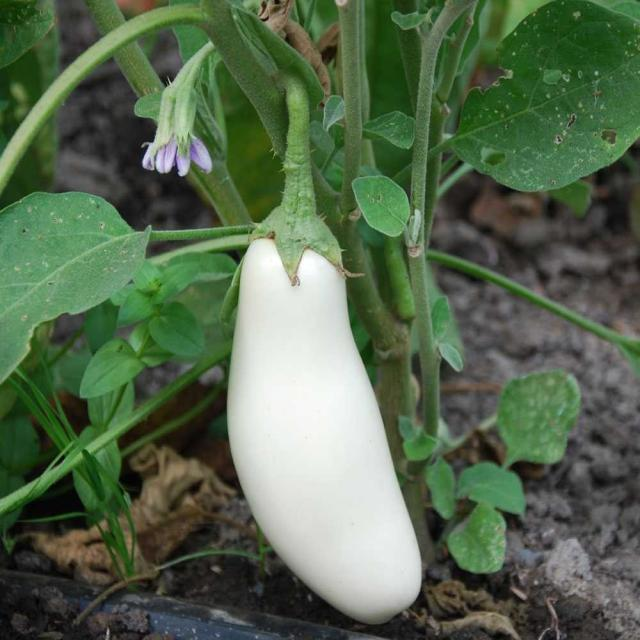Eggplant-r1Ob: (228, 71, 421, 623)
